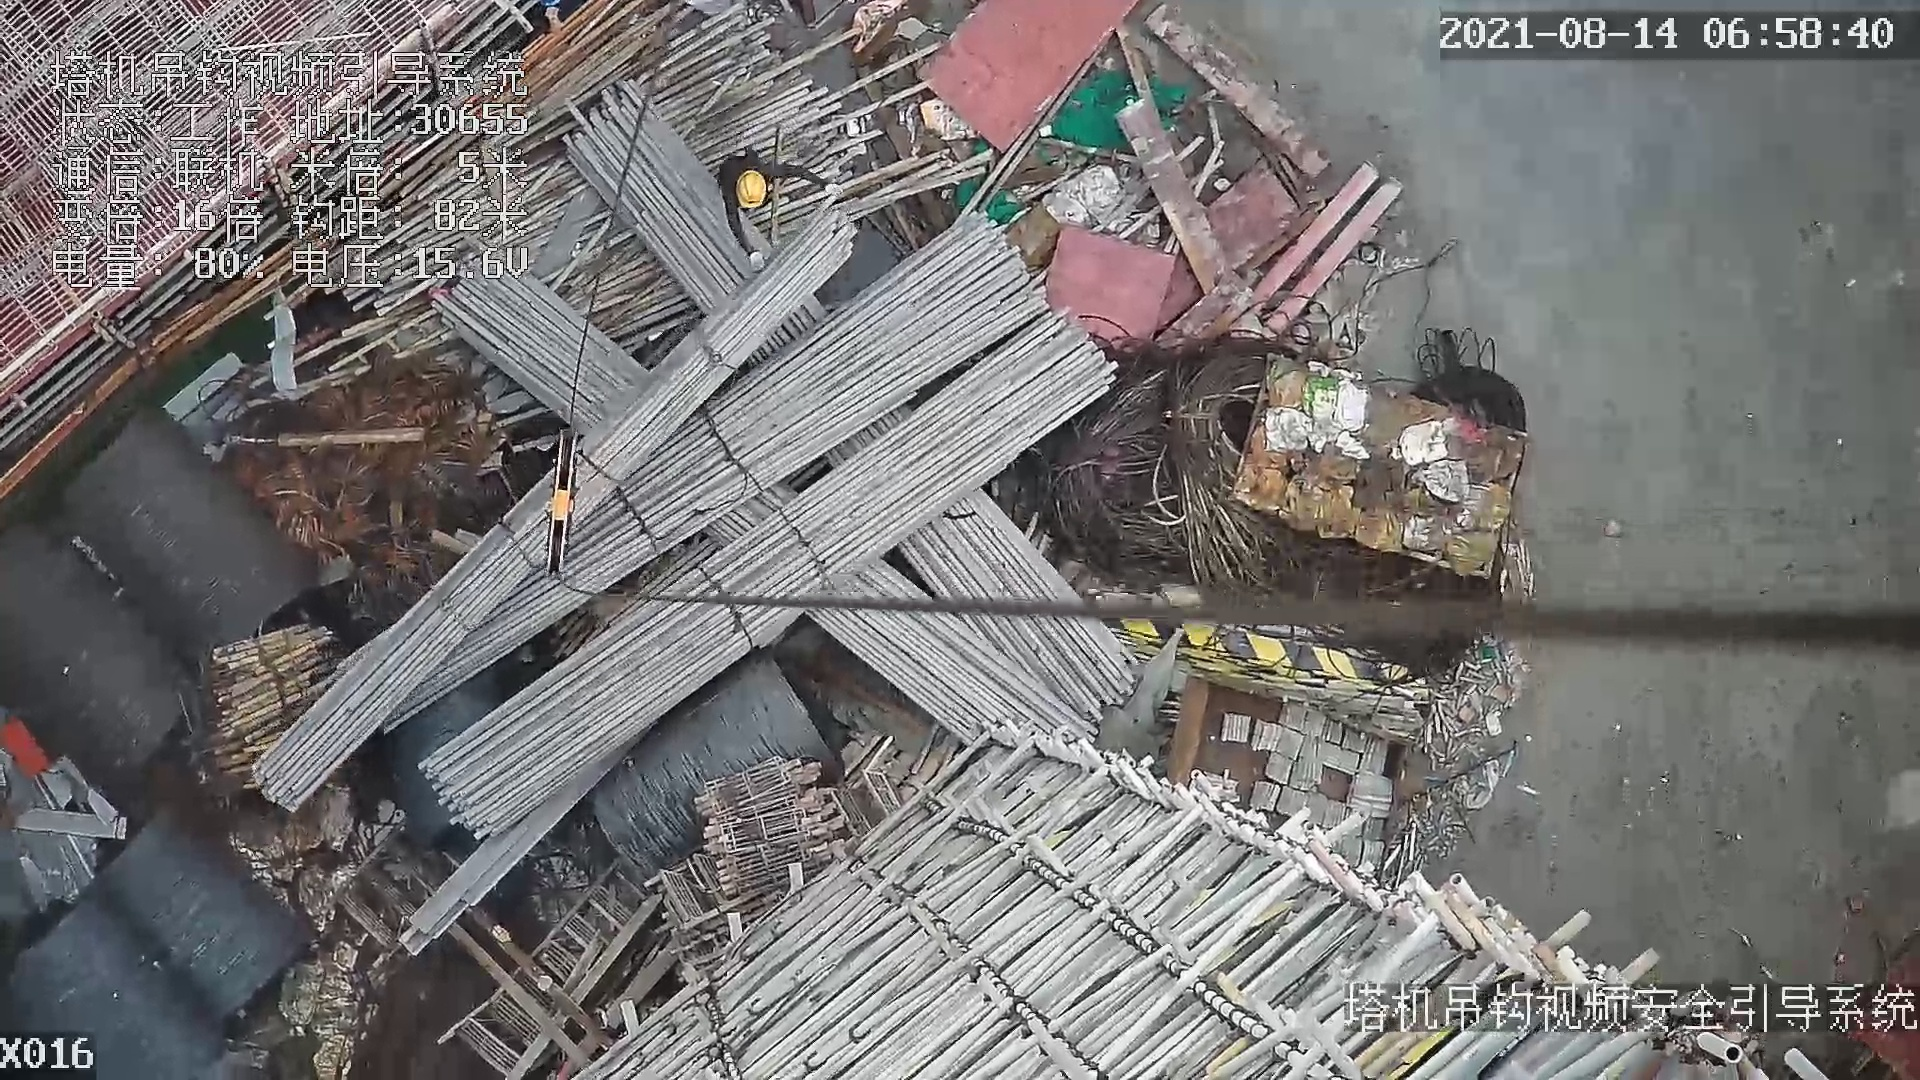helmet: (736, 169, 765, 208)
hook: (535, 423, 578, 578)
person: (719, 145, 832, 271)
rebar: (425, 304, 1115, 833), (252, 212, 856, 814), (389, 218, 1054, 724), (806, 561, 1105, 746), (900, 489, 1138, 715)
scaffold: (204, 623, 324, 770)
